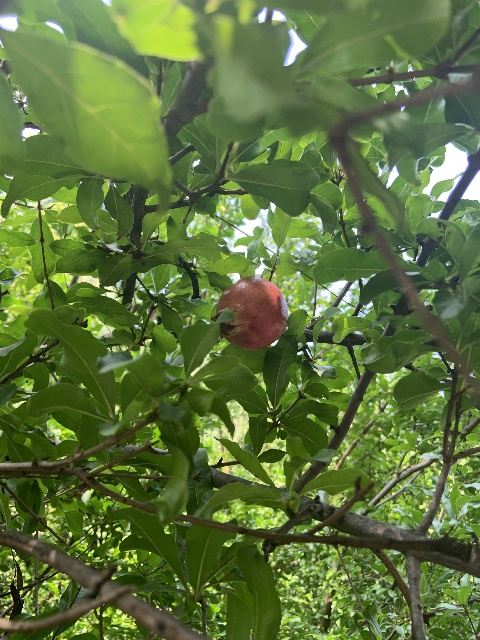ripe: (210, 276, 288, 350)
